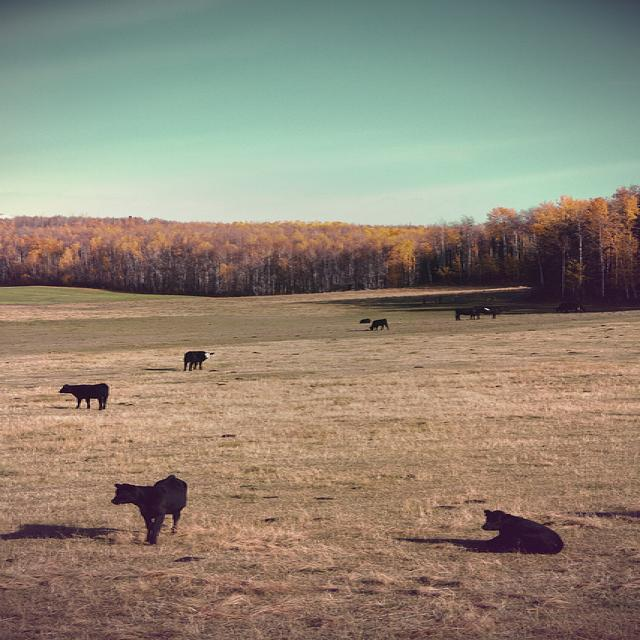cow: (108, 472, 184, 545), (471, 508, 561, 553), (51, 380, 106, 409), (180, 349, 219, 369), (352, 312, 390, 331), (453, 306, 495, 322), (468, 304, 508, 318), (552, 301, 580, 312), (483, 306, 489, 310)
